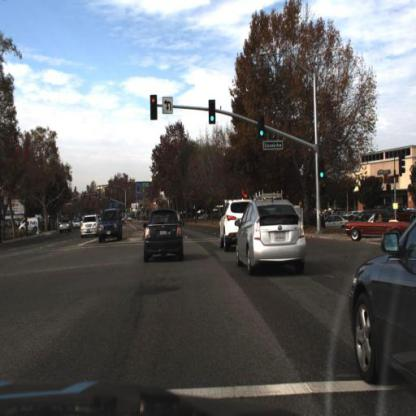car: (347, 215, 416, 403), (234, 192, 318, 291), (142, 205, 186, 269), (218, 192, 249, 265), (347, 212, 413, 246), (96, 207, 127, 247), (321, 213, 351, 236), (321, 212, 345, 238), (18, 216, 41, 243), (81, 210, 102, 239), (18, 219, 43, 237), (79, 220, 99, 241), (56, 220, 74, 238)
trafficLight-Green: (255, 113, 268, 144), (204, 100, 216, 132), (317, 167, 327, 188), (258, 119, 266, 145)
trafficLight-RedLeft: (148, 84, 160, 116)
